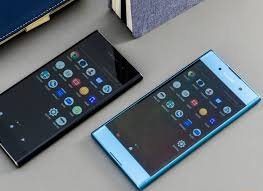sony: (86, 45, 263, 191)
